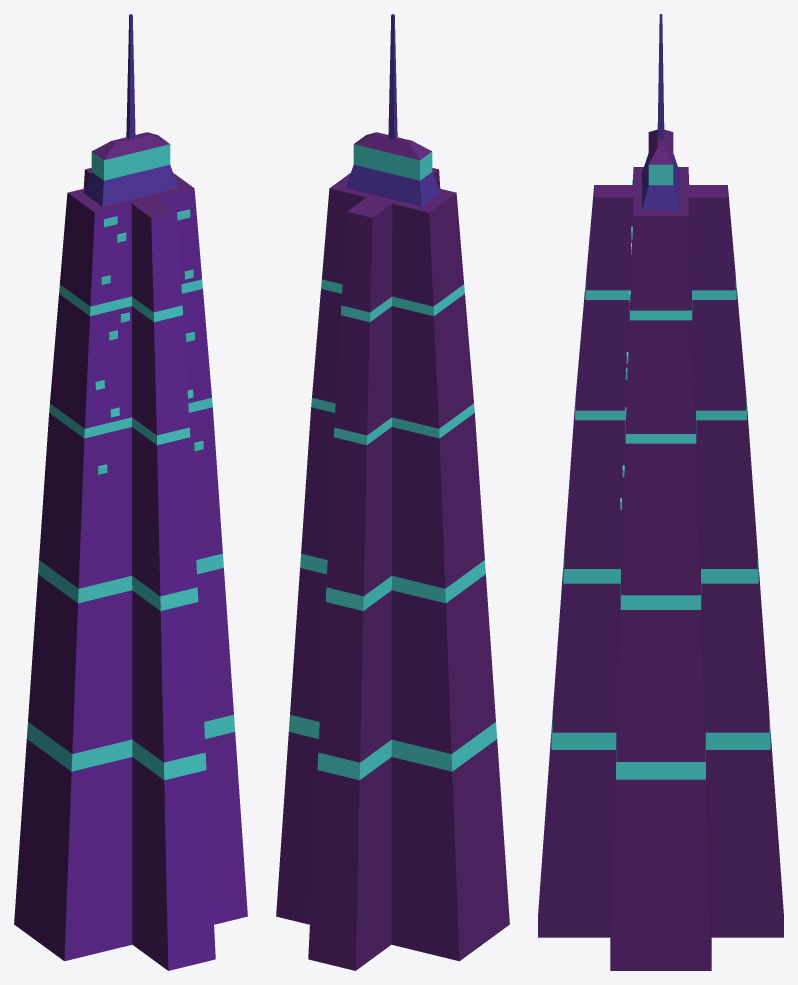
Rendered from Build_sci_fi_8.fbx.
The picture shows the model from 3 angles, left to right: view 1: azimuth 30°, elevation 25°; view 2: azimuth 150°, elevation 25°; view 3: azimuth 270°, elevation 25°; orthographic projection.
Parts seen in each view (by area): view 1: Build_sci_fi_8; view 2: Build_sci_fi_8; view 3: Build_sci_fi_8.
Boxes of the visible parts, bbox=[...] form: Build_sci_fi_8: bbox=[14, 14, 247, 970]; Build_sci_fi_8: bbox=[276, 14, 509, 970]; Build_sci_fi_8: bbox=[538, 14, 783, 970].
Size of the model in its own units: 228 by 1075 by 263.
